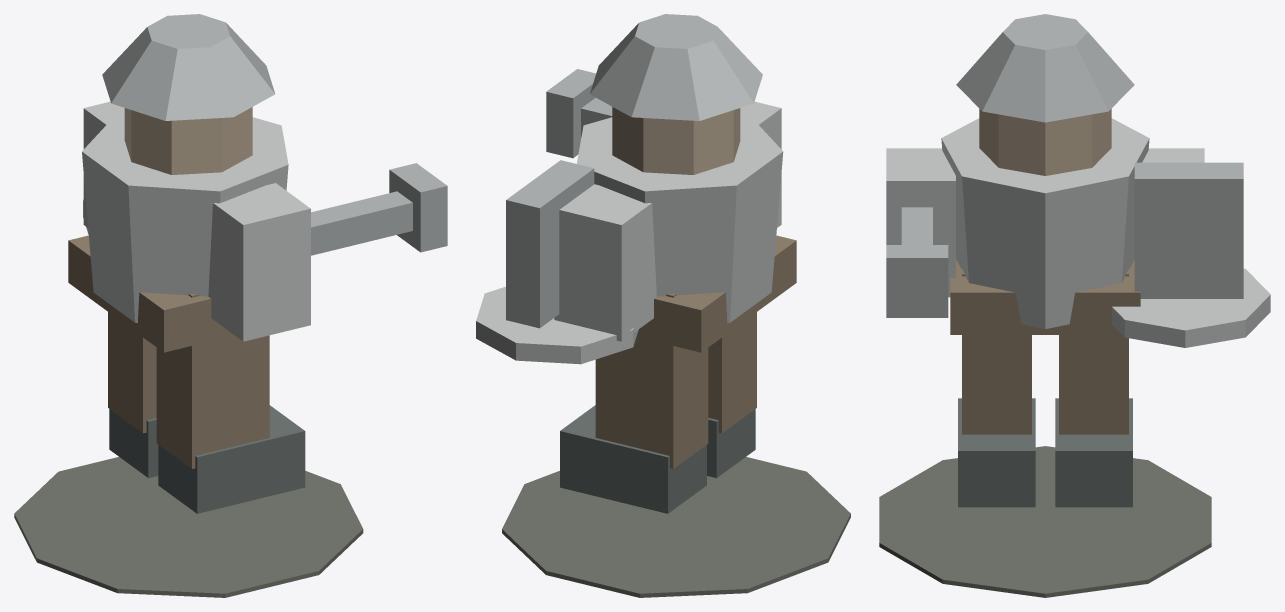
File: melee.glb
3 views of the same model, side by side, from view 1: azimuth 30°, elevation 25°; view 2: azimuth 150°, elevation 25°; view 3: azimuth 270°, elevation 25° (orthographic).
Parts seen in each view (by area): view 1: body; view 2: body; view 3: body.
Boxes of the visible parts, x1,y1,x2,y2 form: body: [14, 14, 447, 597]; body: [476, 14, 850, 597]; body: [879, 14, 1270, 597].
Bounding box in the file's own units: 0.98 × 1.4 × 1.01.
